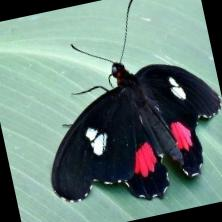butterfly: (52, 63, 222, 201)
